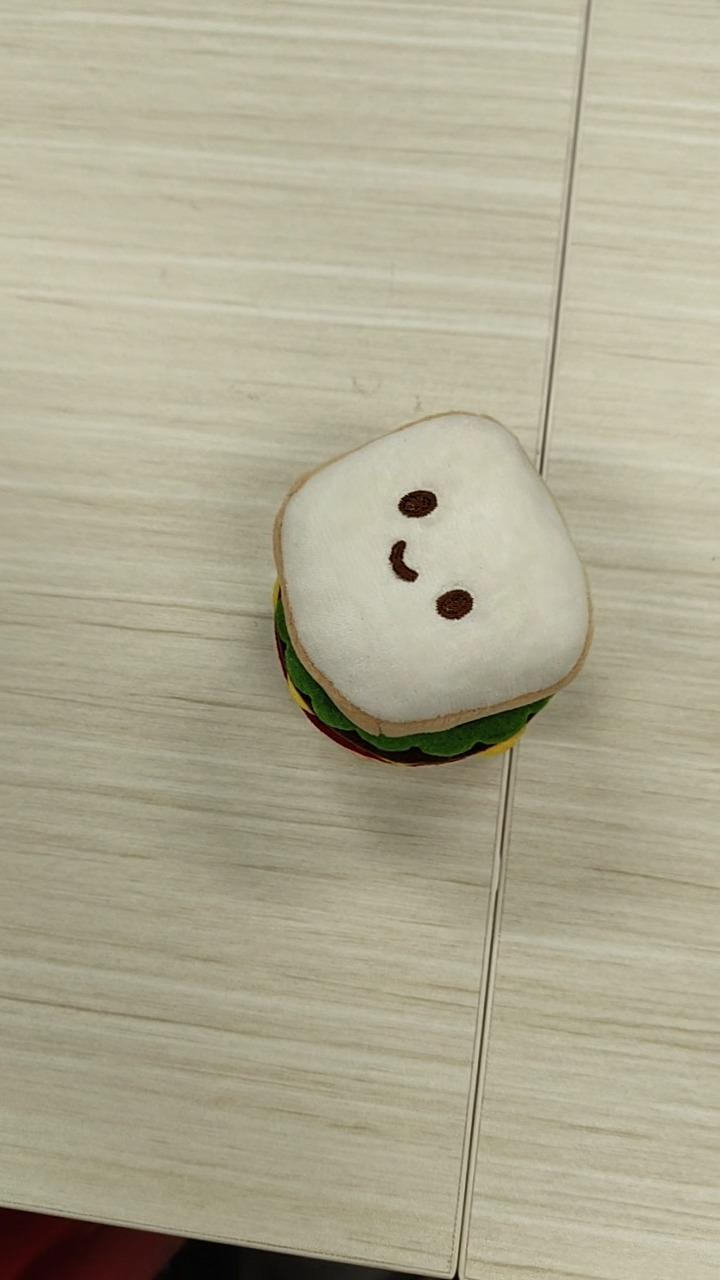objects: (269, 408, 594, 769)
